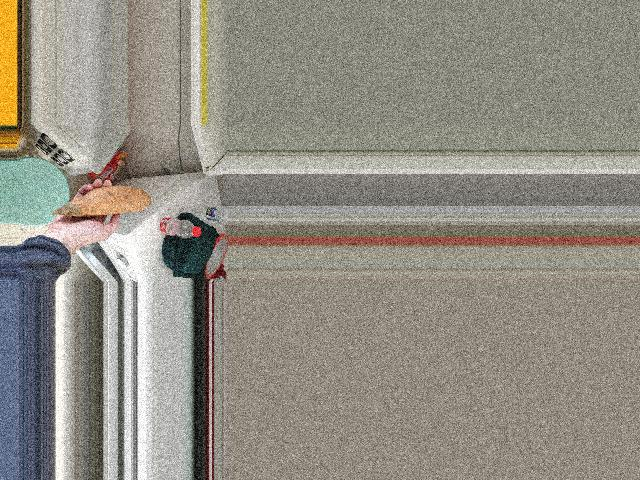sweet_potato: (42, 182, 147, 210)
